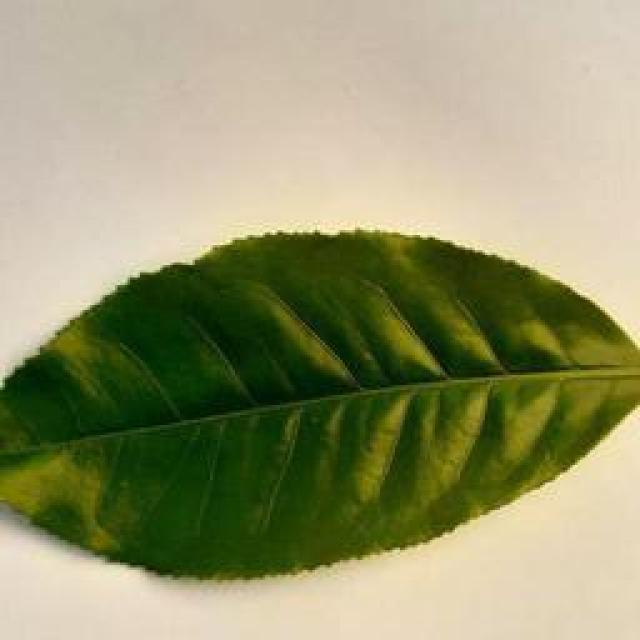Healthy: (2, 222, 640, 577)
